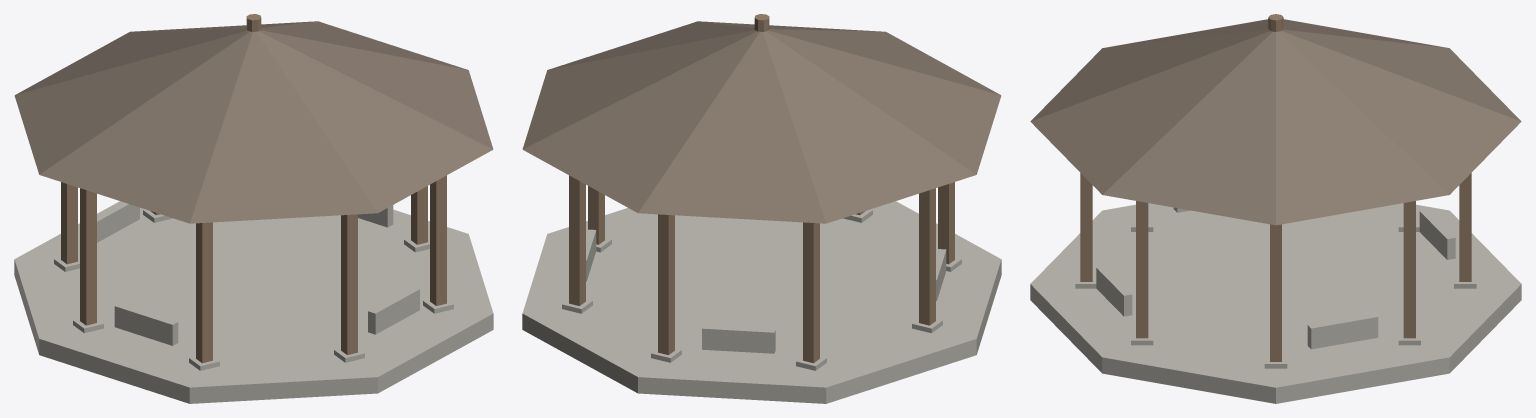
The model's file is cp_chess_house.glb.
3 renders of one model, left to right at view 1: azimuth 30°, elevation 25°; view 2: azimuth 150°, elevation 25°; view 3: azimuth 270°, elevation 25°, orthographic.
Parts seen in each view (by area): view 1: ChessHouse; view 2: ChessHouse; view 3: ChessHouse.
Boxes of the visible parts, <box> form: ChessHouse: <box>14,14,493,403</box>; ChessHouse: <box>522,14,1001,403</box>; ChessHouse: <box>1030,14,1521,403</box>.
Size of the model in its own units: 9.6 by 6.1 by 9.6.
